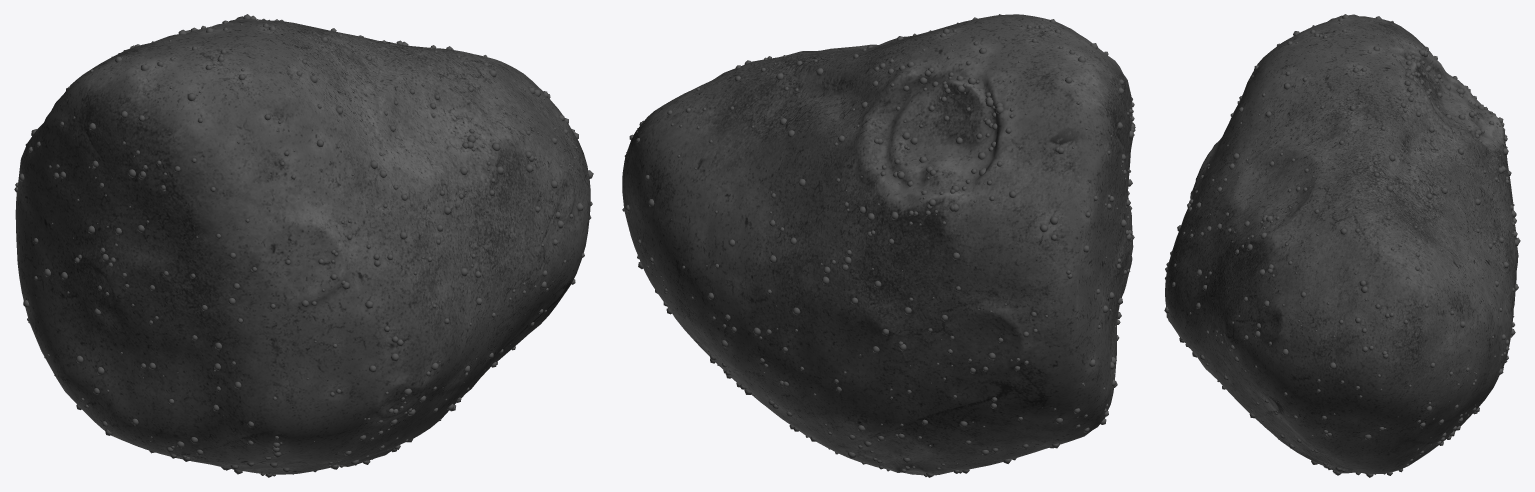
The model's file is asteroid3.glb.
The picture shows the model from 3 angles, left to right: view 1: azimuth 30°, elevation 25°; view 2: azimuth 150°, elevation 25°; view 3: azimuth 270°, elevation 25°; orthographic projection. The views are drawn at different scales.
Parts seen in each view (by area): view 1: Daphne_LP, Daphe_LP_Debris; view 2: Daphne_LP, Daphe_LP_Debris; view 3: Daphne_LP, Daphe_LP_Debris.
Part boxes in pixels (box(x1,y1,x2,y2)): Daphne_LP: box(15, 16, 590, 474); Daphe_LP_Debris: box(14, 14, 593, 477); Daphne_LP: box(622, 14, 1133, 475); Daphe_LP_Debris: box(622, 14, 1135, 477); Daphne_LP: box(1165, 14, 1518, 473); Daphe_LP_Debris: box(1164, 14, 1520, 477).
Bounding box in the file's own units: 234 × 197 × 168.
Materials: 2 (1 with a texture image).
